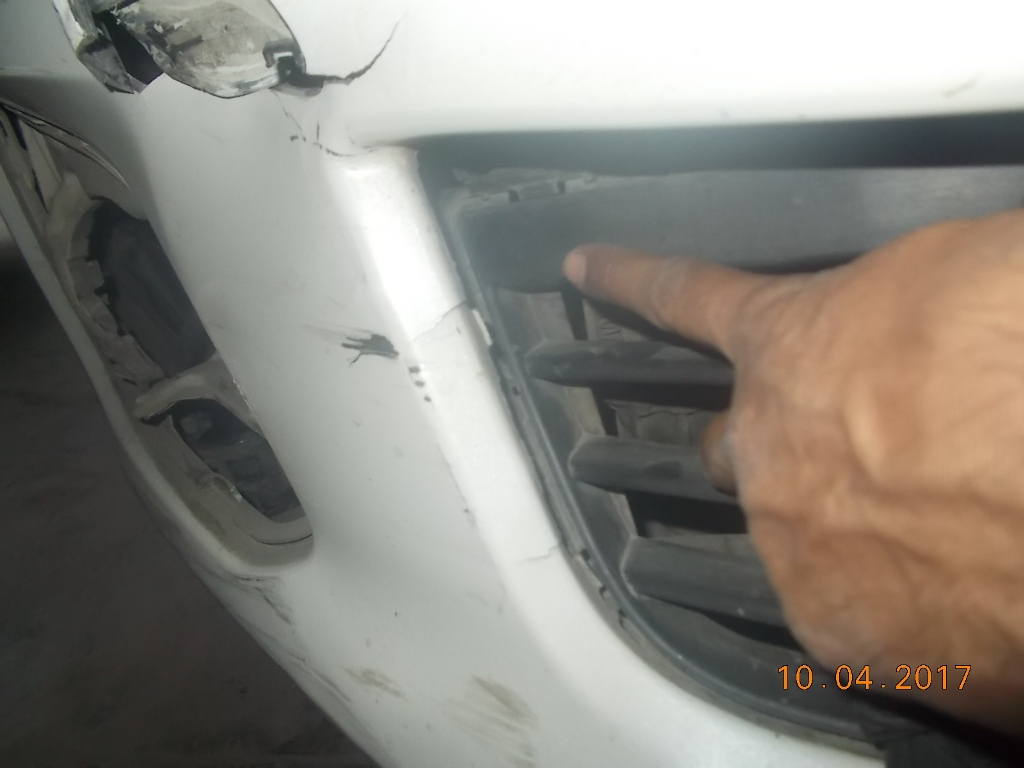Dislocation: (370, 452, 423, 522)
Tear: (473, 530, 516, 595)
